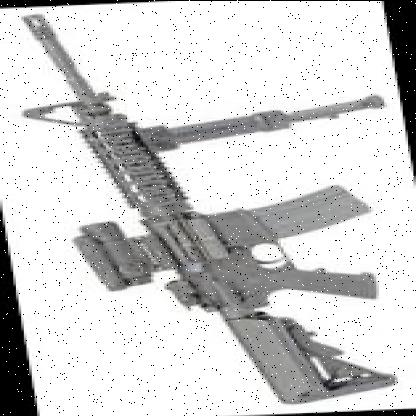rifle: (2, 0, 400, 414)
